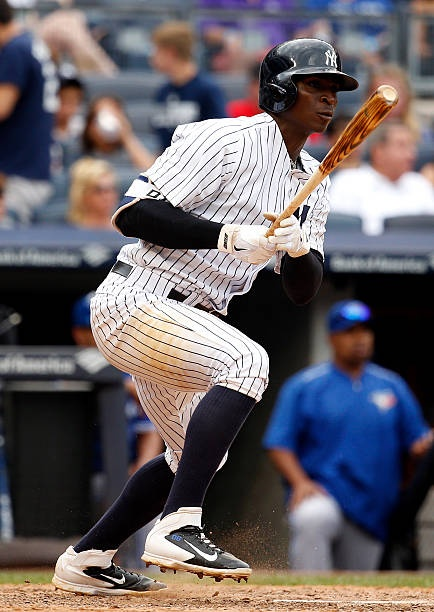bita: (260, 90, 394, 246)
